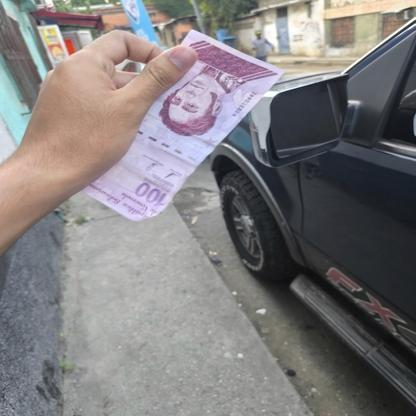one_hundred-front-vef: (79, 29, 286, 223)
